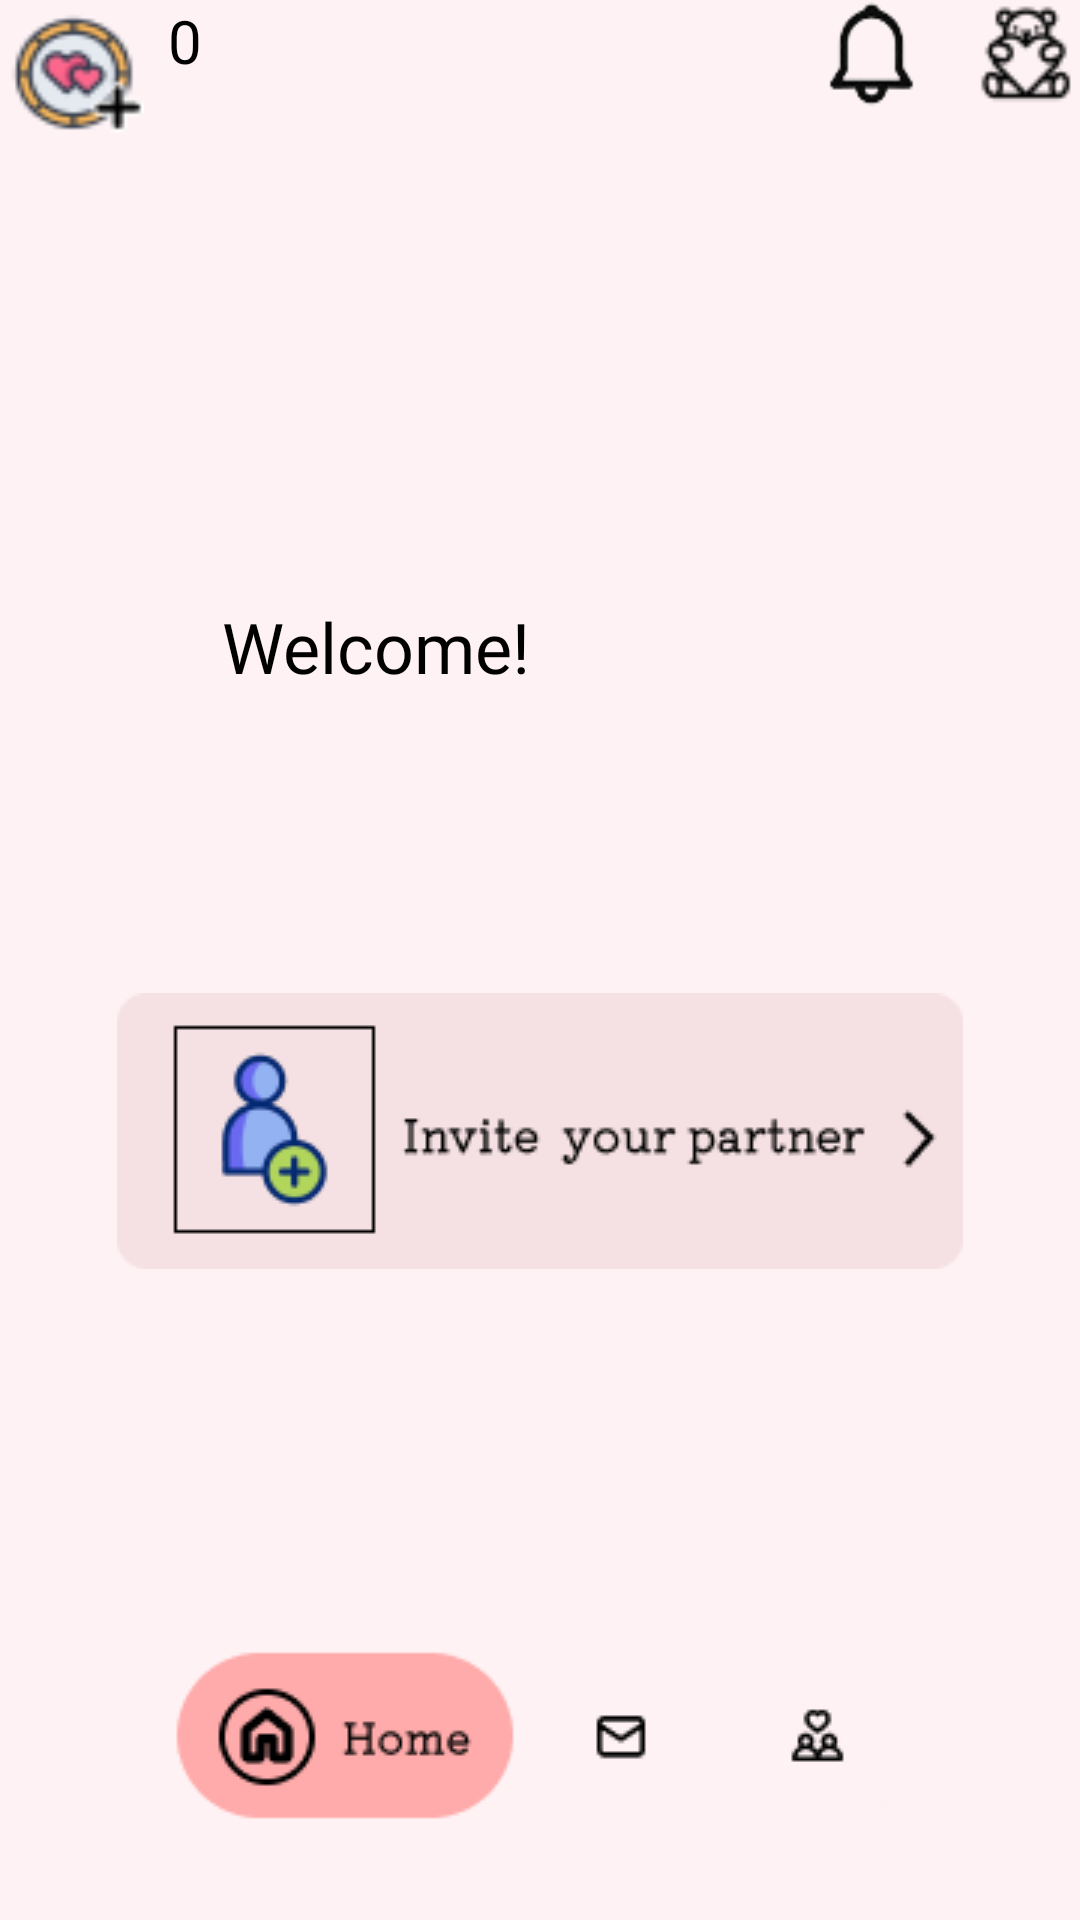

Screen size 1080*1920. Icon name, then its box in pixels as bbox(x1, y1, x2, y2):
gifts: bbox(981, 6, 1071, 100)
Notification: bbox(829, 3, 914, 105)
tokens: bbox(14, 17, 141, 130)
